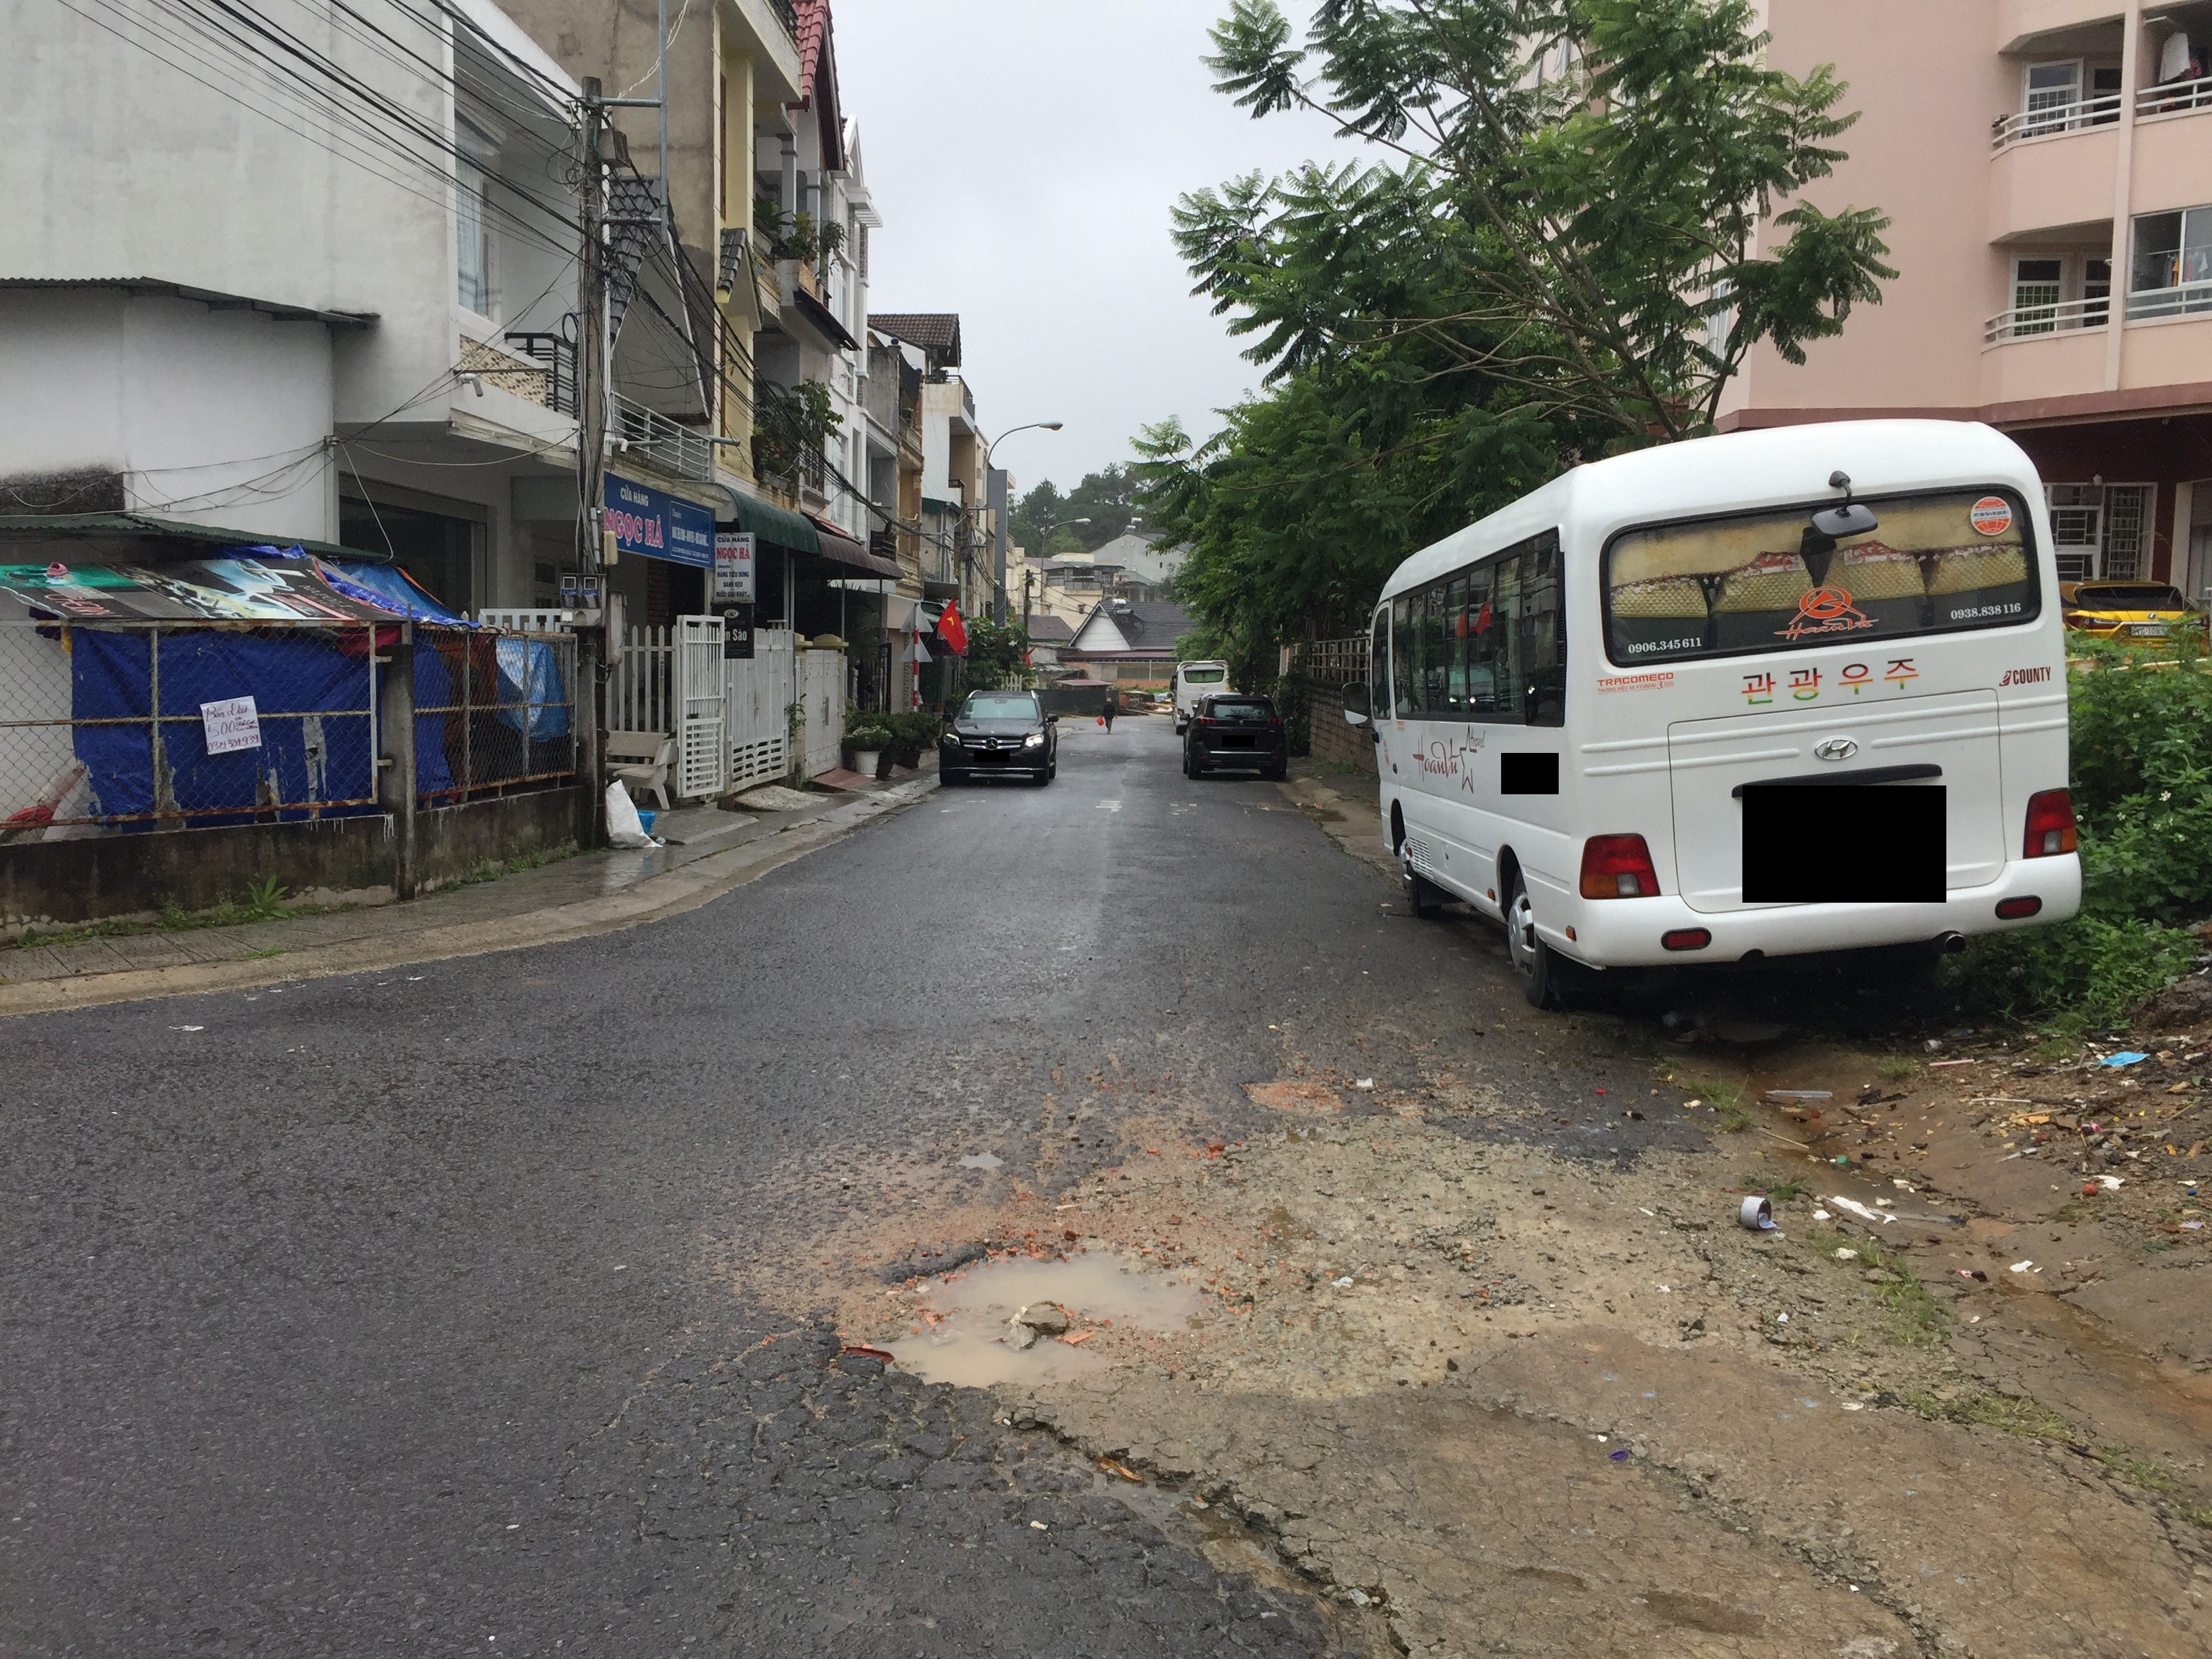hole: (979, 1419, 1425, 1645), (810, 1227, 1237, 1399), (1245, 1065, 1348, 1122), (963, 1143, 1008, 1173)
